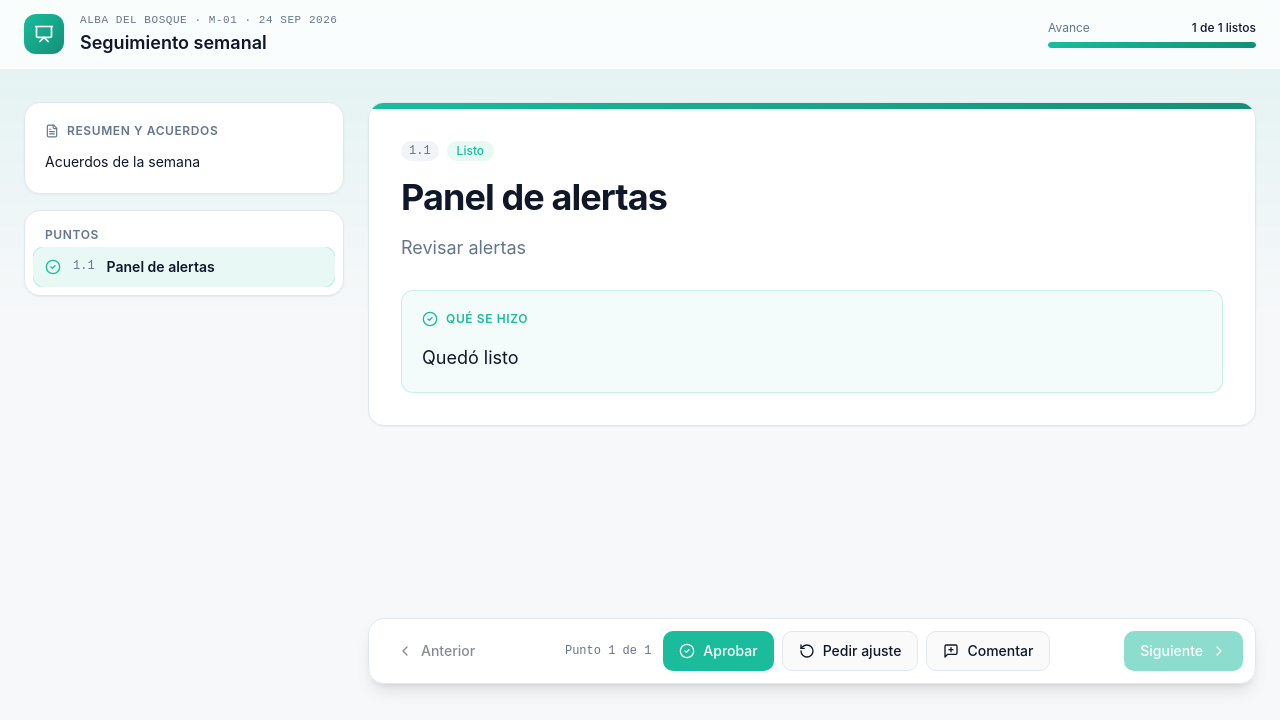
MinutaPublica › si la sesión vence mientras actúa, vuelve a pedir el código
Click the button "Aprobar" at (719, 651), box x1=663 y1=631 x2=774 y2=671
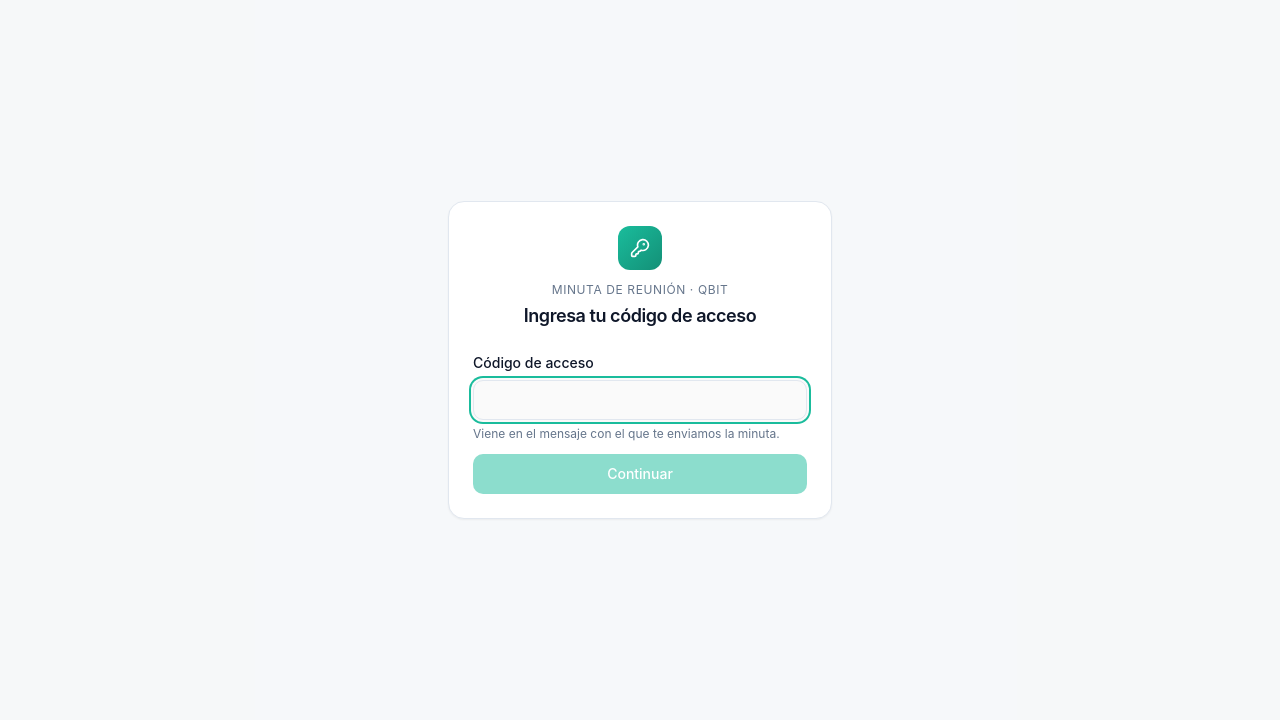
expect the field labelled "Código de acceso" is shown: met, box x1=473 y1=380 x2=807 y2=420
